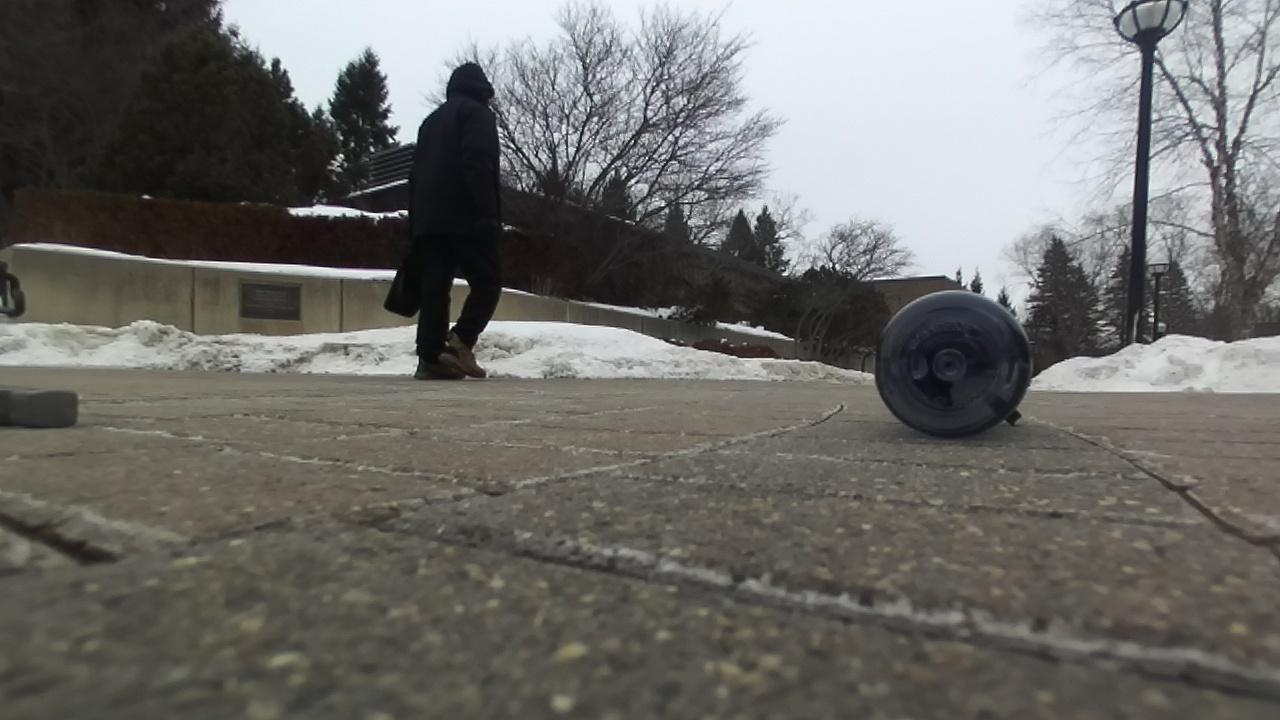bottle: (874, 289, 1031, 437)
